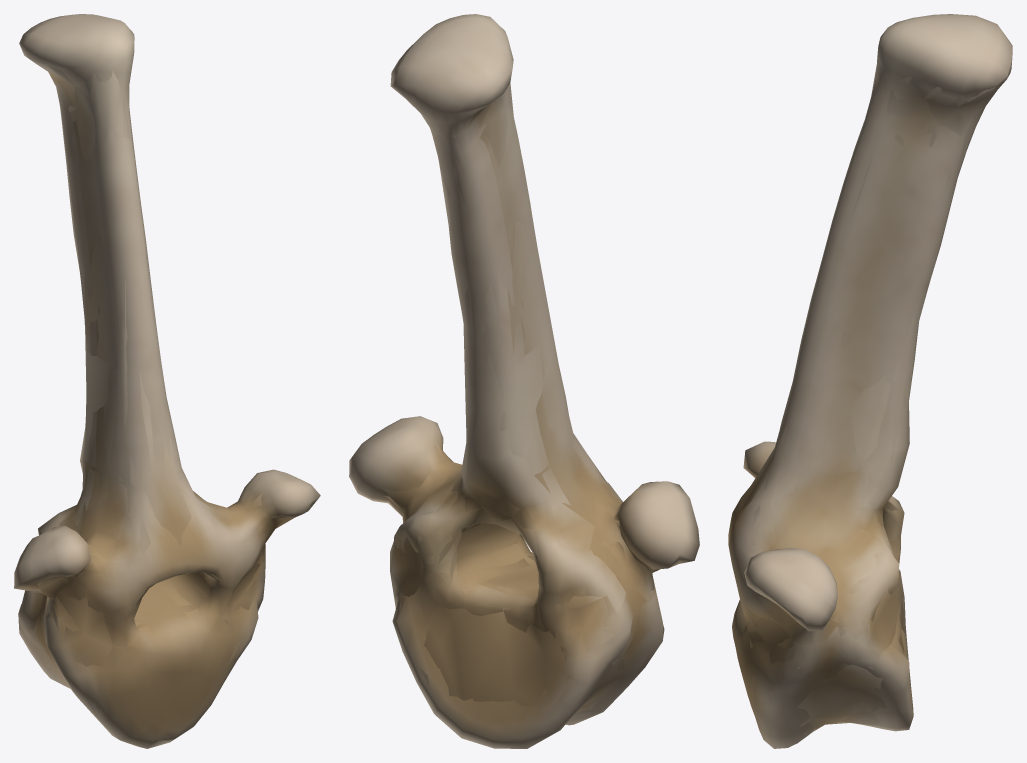
Rendered from vertebrae thoracicae 06.fbx.
3 renders of one model, left to right at view 1: azimuth 30°, elevation 25°; view 2: azimuth 150°, elevation 25°; view 3: azimuth 270°, elevation 25°, orthographic. The views are drawn at different scales.
Parts seen in each view (by area): view 1: vertebrae thoracicae 06, vertebrae thoracicae 06 low; view 2: vertebrae thoracicae 06, vertebrae thoracicae 06 low; view 3: vertebrae thoracicae 06, vertebrae thoracicae 06 low.
Boxes of the visible parts, left/top/right/bottom form: vertebrae thoracicae 06: left=14, top=14, right=320, bottom=748; vertebrae thoracicae 06 low: left=31, top=65, right=293, bottom=743; vertebrae thoracicae 06: left=349, top=14, right=699, bottom=748; vertebrae thoracicae 06 low: left=383, top=83, right=660, bottom=711; vertebrae thoracicae 06: left=728, top=14, right=1012, bottom=748; vertebrae thoracicae 06 low: left=737, top=64, right=995, bottom=734.
Size of the model in its own units: 9.65 by 20.19 by 7.19.
1 material, 1 textured.
